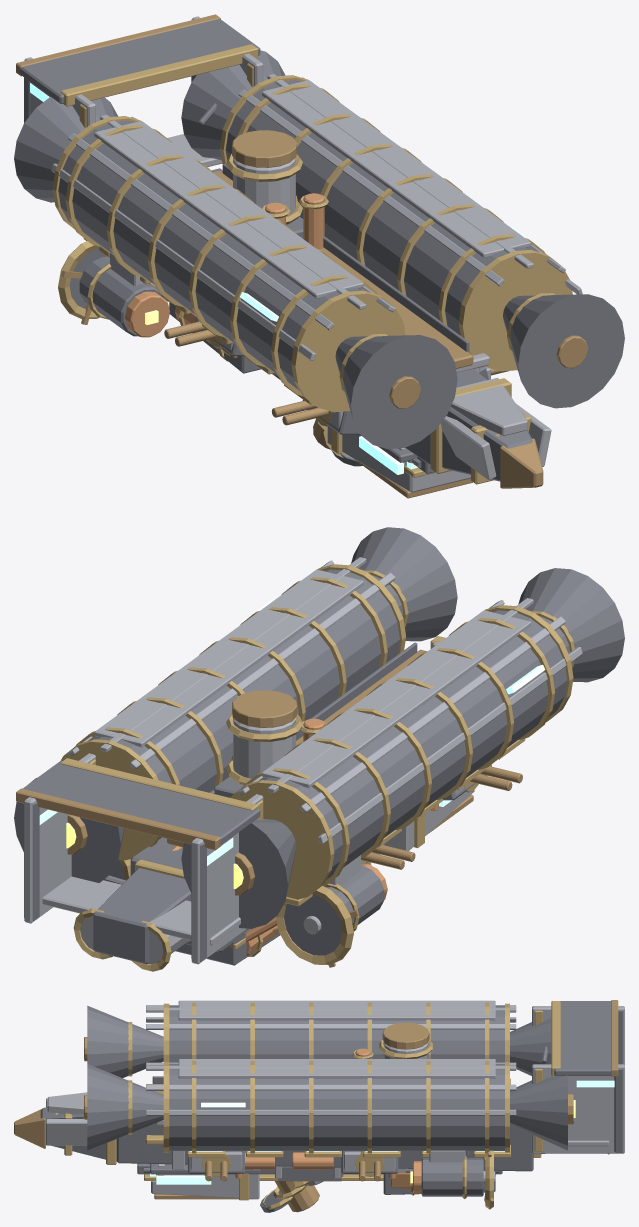
The model's file is gearforge_airship.glb.
3 renders of one model, top to bottom at view 1: azimuth 30°, elevation 25°; view 2: azimuth 150°, elevation 25°; view 3: azimuth 270°, elevation 25°, orthographic. The views are drawn at different scales.
Parts seen in each view (by area): view 1: gearforge_airship_dark_iron_lod0, gearforge_airship_steel_lod0, gearforge_airship_brass_lod0, gearforge_airship_bronze_lod0, gearforge_airship_copper_lod0, gearforge_airship_aether_glow_lod0; view 2: gearforge_airship_dark_iron_lod0, gearforge_airship_steel_lod0, gearforge_airship_brass_lod0, gearforge_airship_bronze_lod0, gearforge_airship_copper_lod0, gearforge_airship_aether_glow_lod0; view 3: gearforge_airship_dark_iron_lod0, gearforge_airship_steel_lod0, gearforge_airship_brass_lod0, gearforge_airship_bronze_lod0, gearforge_airship_copper_lod0, gearforge_airship_aether_glow_lod0.
Part boxes in pixels (left/top/right/bottom): gearforge_airship_dark_iron_lod0: left=14, top=18, right=624, bottom=481; gearforge_airship_steel_lod0: left=24, top=16, right=582, bottom=492; gearforge_airship_brass_lod0: left=52, top=44, right=572, bottom=484; gearforge_airship_bronze_lod0: left=16, top=14, right=588, bottom=498; gearforge_airship_copper_lod0: left=125, top=193, right=324, bottom=356; gearforge_airship_aether_glow_lod0: left=30, top=83, right=543, bottom=475; gearforge_airship_dark_iron_lod0: left=14, top=527, right=624, bottom=965; gearforge_airship_steel_lod0: left=24, top=557, right=582, bottom=964; gearforge_airship_brass_lod0: left=60, top=564, right=574, bottom=971; gearforge_airship_bronze_lod0: left=16, top=649, right=522, bottom=967; gearforge_airship_copper_lod0: left=172, top=718, right=438, bottom=955; gearforge_airship_aether_glow_lod0: left=39, top=599, right=545, bottom=865; gearforge_airship_dark_iron_lod0: left=40, top=1001, right=623, bottom=1212; gearforge_airship_steel_lod0: left=46, top=1000, right=624, bottom=1199; gearforge_airship_brass_lod0: left=54, top=1001, right=609, bottom=1209; gearforge_airship_bronze_lod0: left=14, top=1000, right=618, bottom=1212; gearforge_airship_copper_lod0: left=235, top=1048, right=421, bottom=1193; gearforge_airship_aether_glow_lod0: left=150, top=1080, right=614, bottom=1184.
Size of the model in its own units: 14.21 by 11.38 by 35.45.
